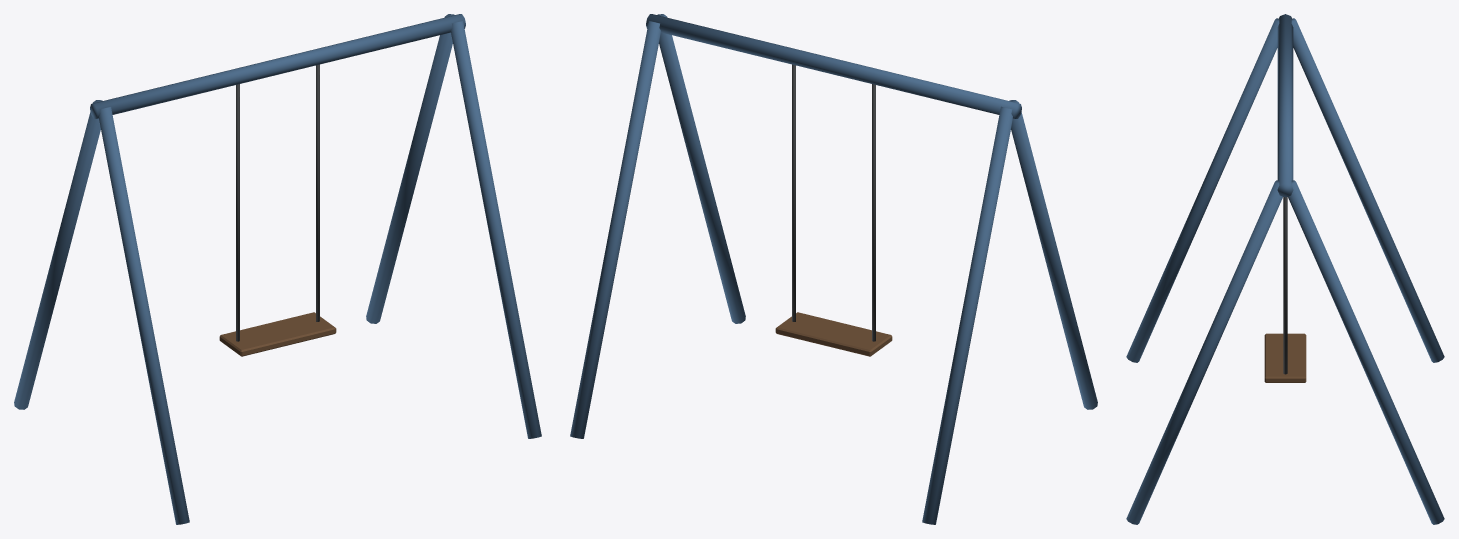
The model's file is swing.glb.
3 renders of one model, left to right at view 1: azimuth 30°, elevation 25°; view 2: azimuth 150°, elevation 25°; view 3: azimuth 270°, elevation 25°, orthographic. The views are drawn at different scales.
Visible parts, largest first — view 1: Swing; view 2: Swing; view 3: Swing.
Boxes of the visible parts, x1,y1,x2,y2 form: Swing: (14, 14, 541, 524); Swing: (570, 14, 1097, 524); Swing: (1126, 14, 1444, 524).
Bounding box in the file's own units: 2.3 × 2.18 × 1.83.
